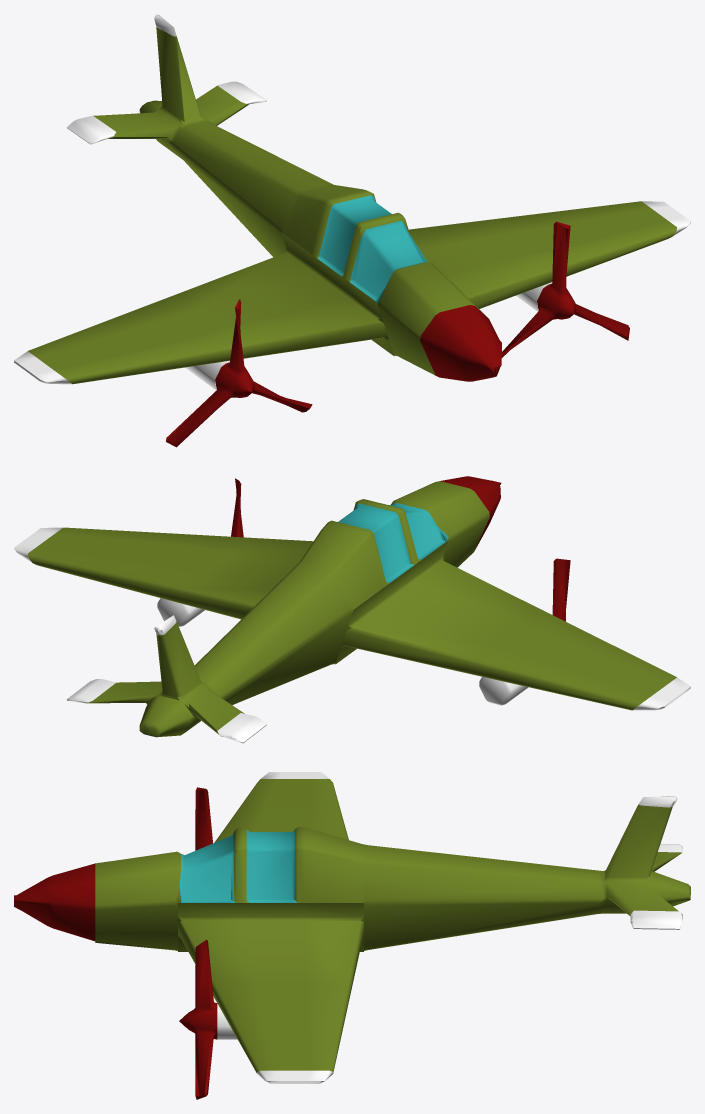
File: Airplane.fbx
3 views of the same model, one above another, from view 1: azimuth 30°, elevation 25°; view 2: azimuth 150°, elevation 25°; view 3: azimuth 270°, elevation 25° (orthographic). The views are drawn at different scales.
Visible parts, largest first — view 1: Airplane; view 2: Airplane; view 3: Airplane.
Boxes of the visible parts, x1,y1,x2,y2 form: Airplane: (14,14,690,447); Airplane: (14,476,690,743); Airplane: (14,772,690,1099).
Bounding box in the file's own units: 6.46 × 1.91 × 5.98.
